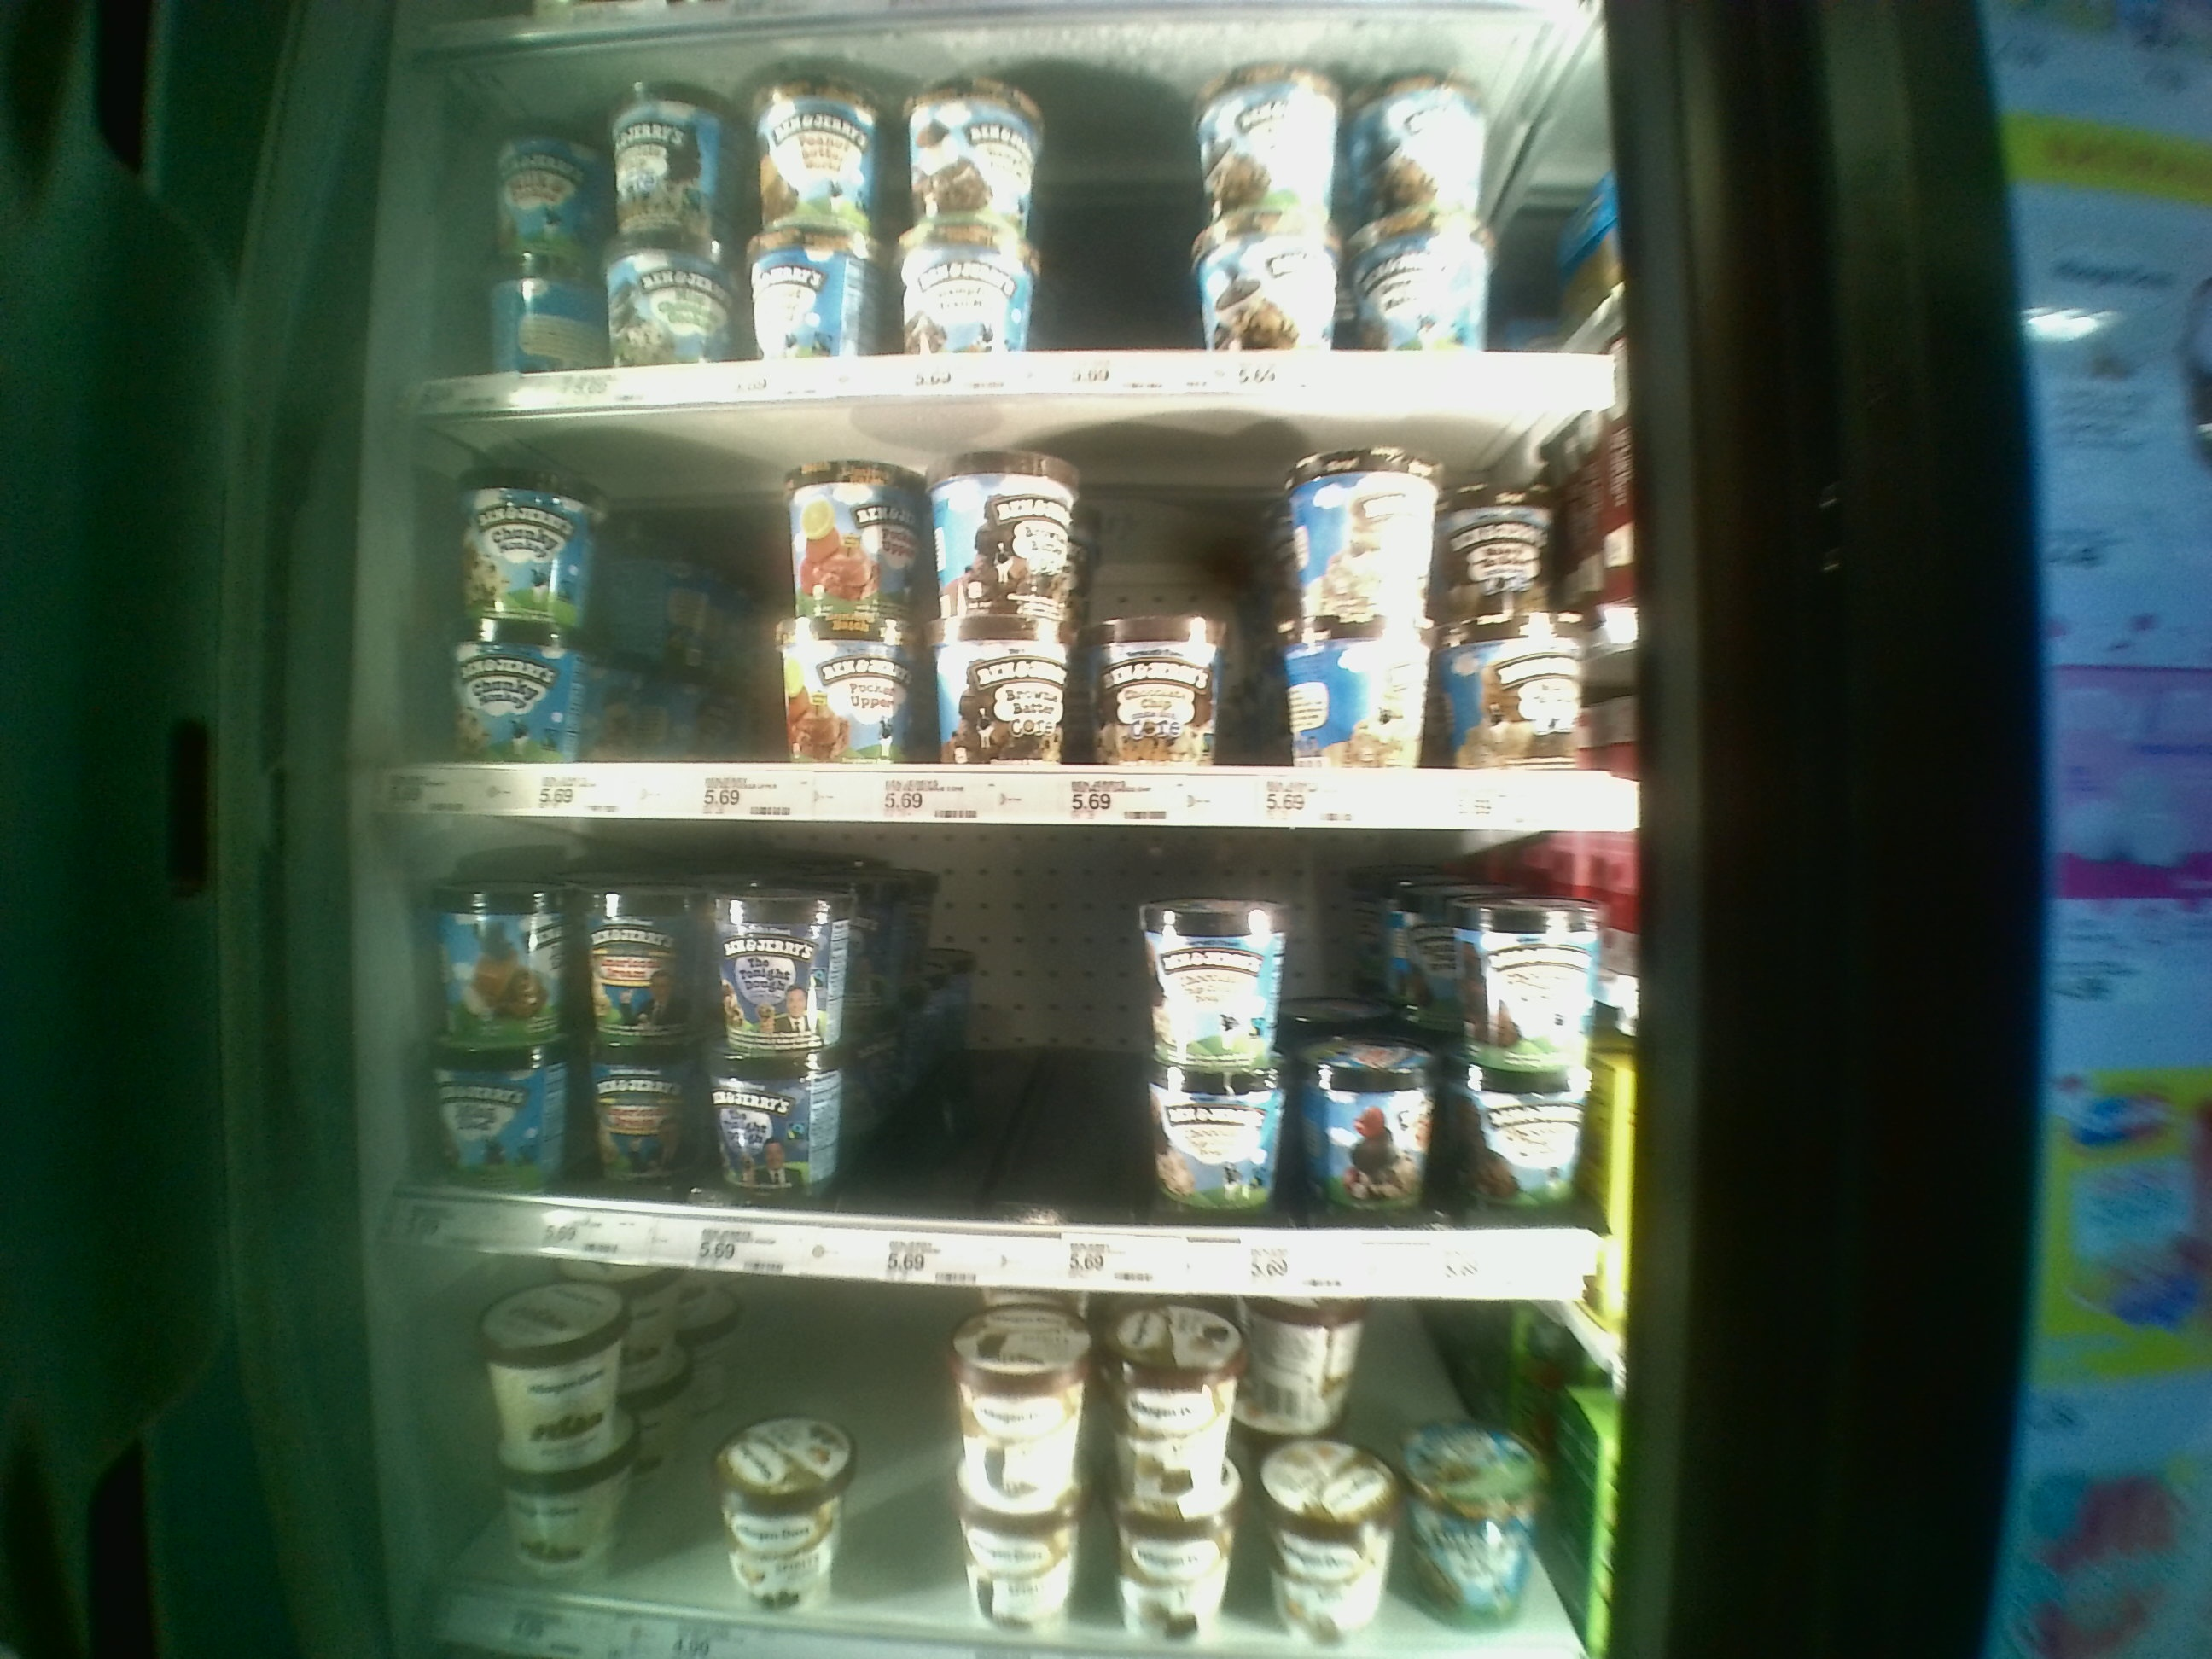ice-cream-shelf: (381, 823, 1639, 1281), (394, 401, 1630, 829)
